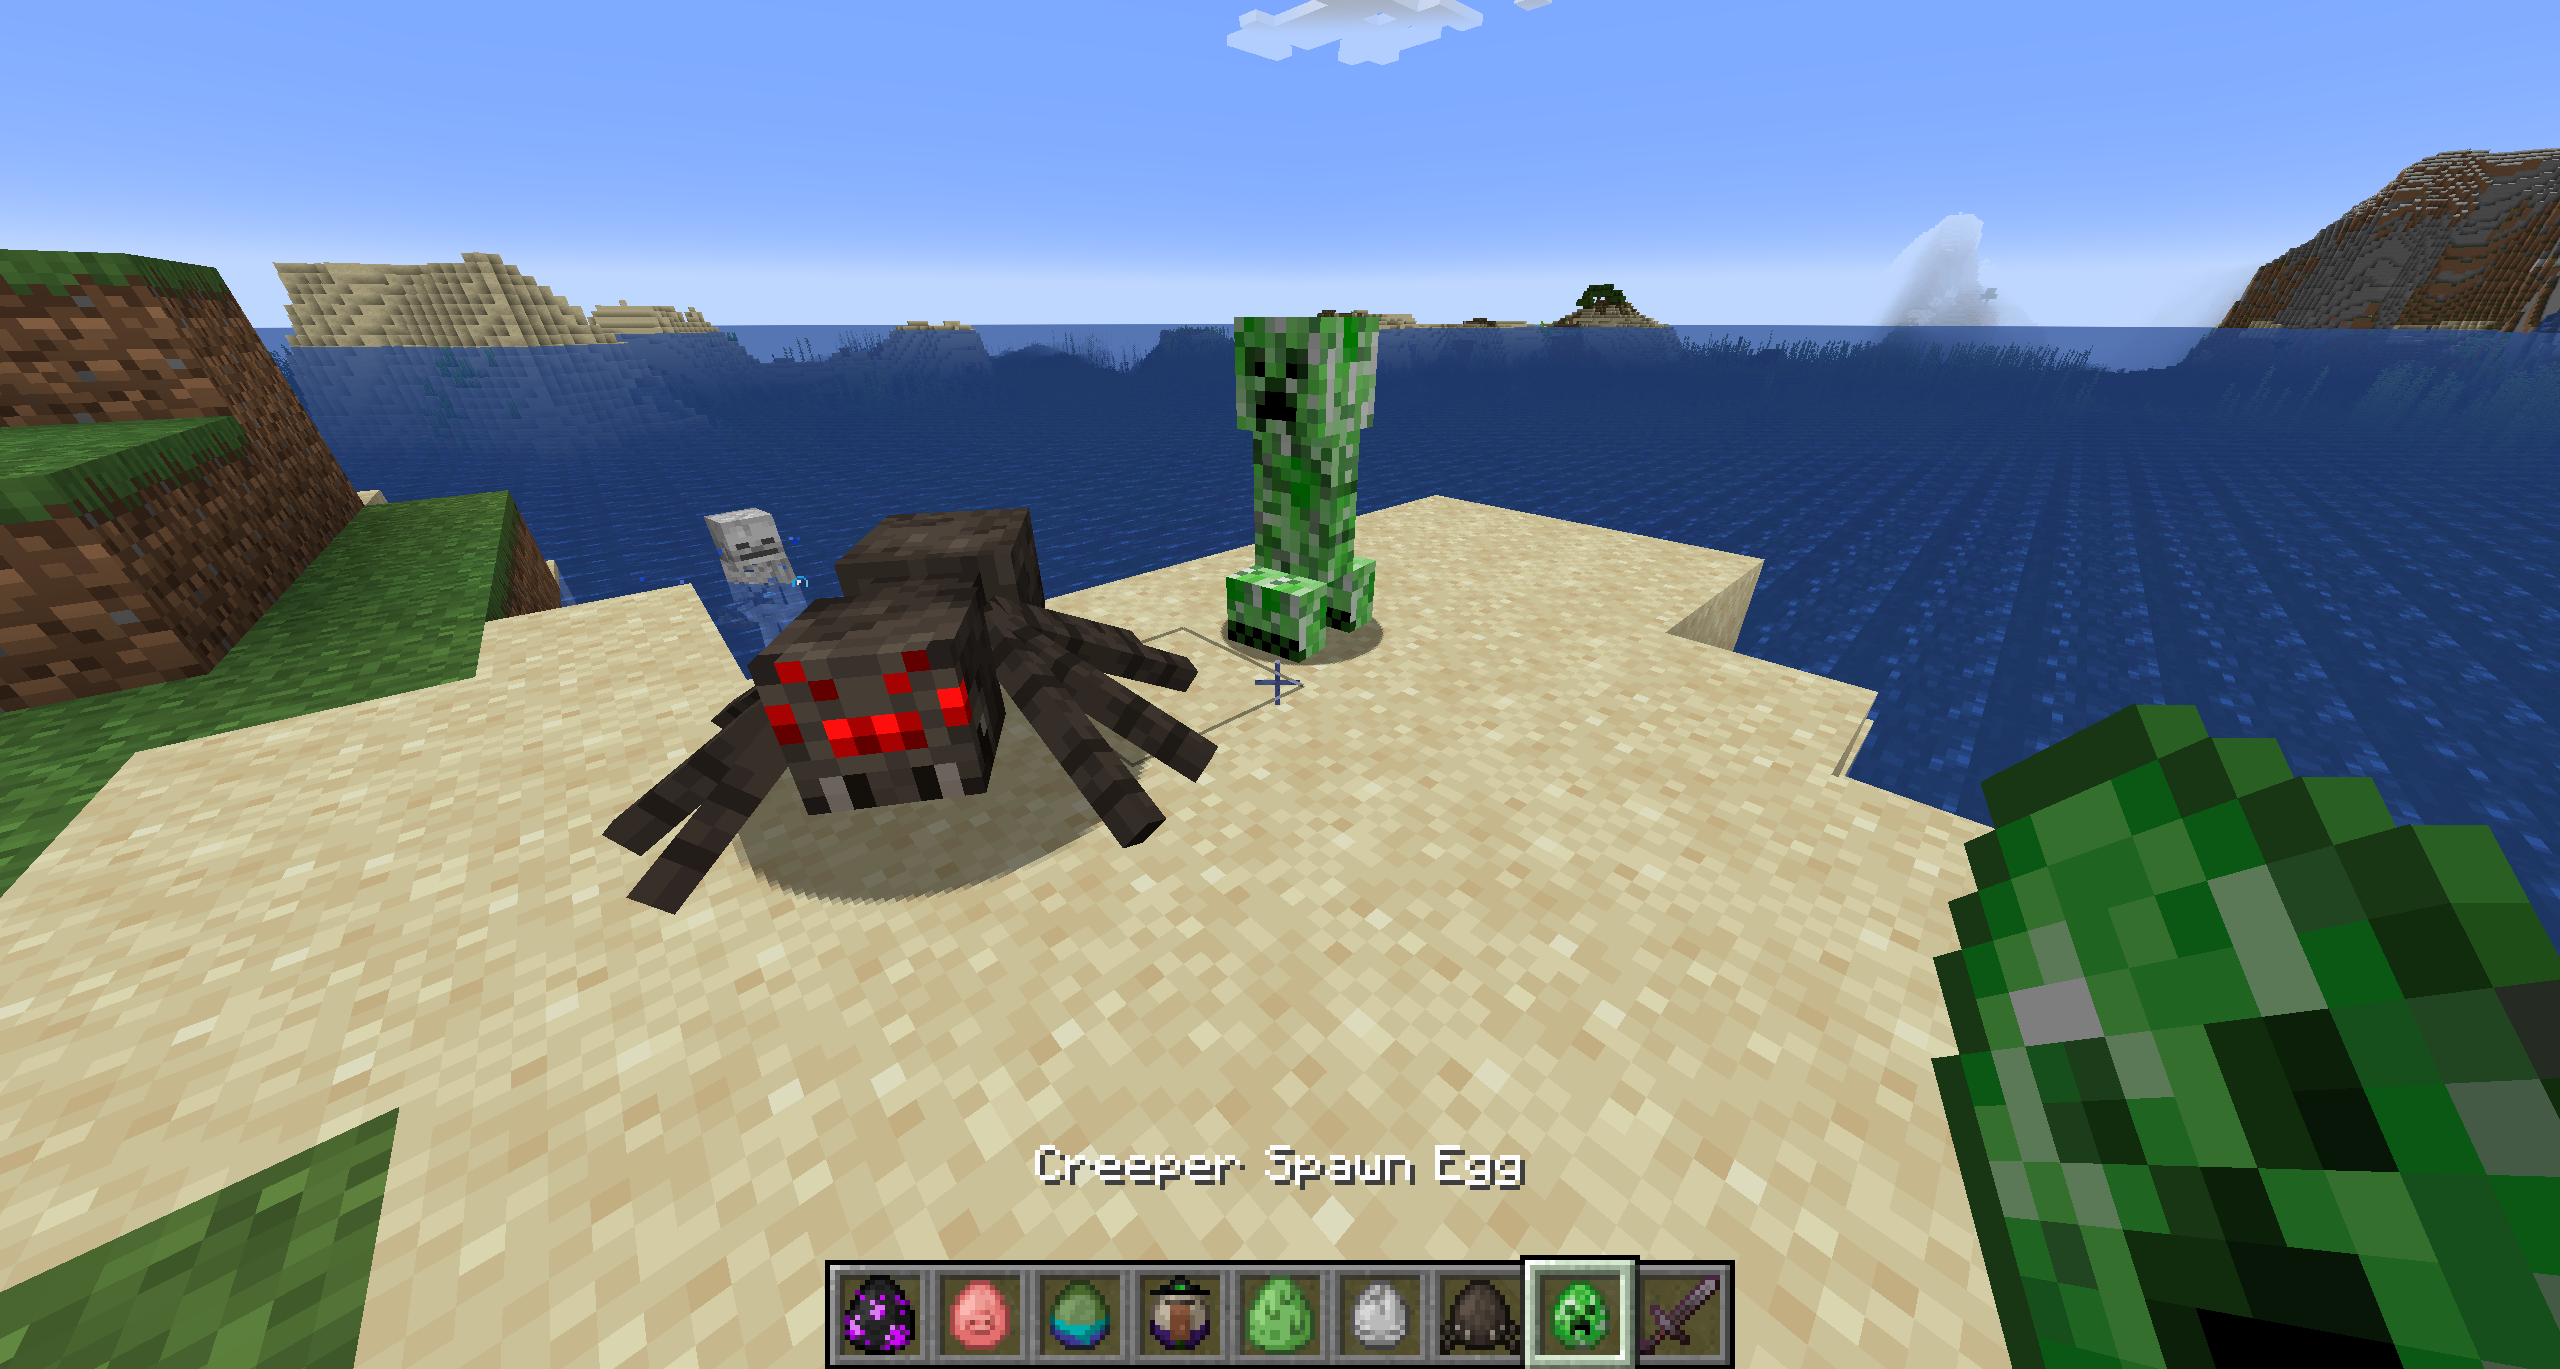araignees: (659, 504, 1183, 880)
creepers: (1224, 310, 1377, 650)
squelettes: (703, 511, 799, 628)
